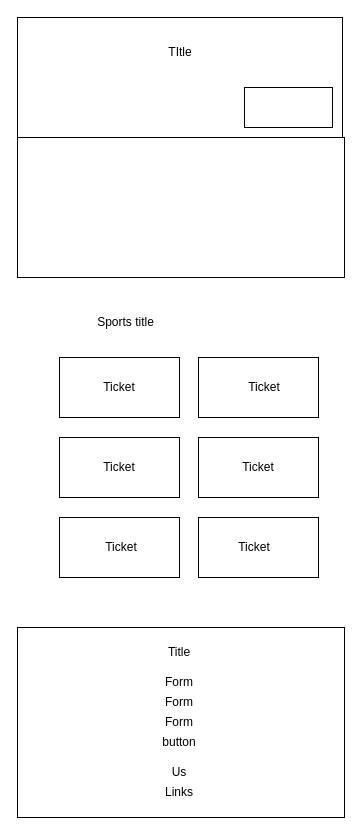
Some shapes in this 362 by 835 pixel diagram are drawn without their labels. The centre of each missing label's shape, as x and y in pixels:
"Hamburger" goes at point (288, 107).
"Image" goes at point (180, 207).
